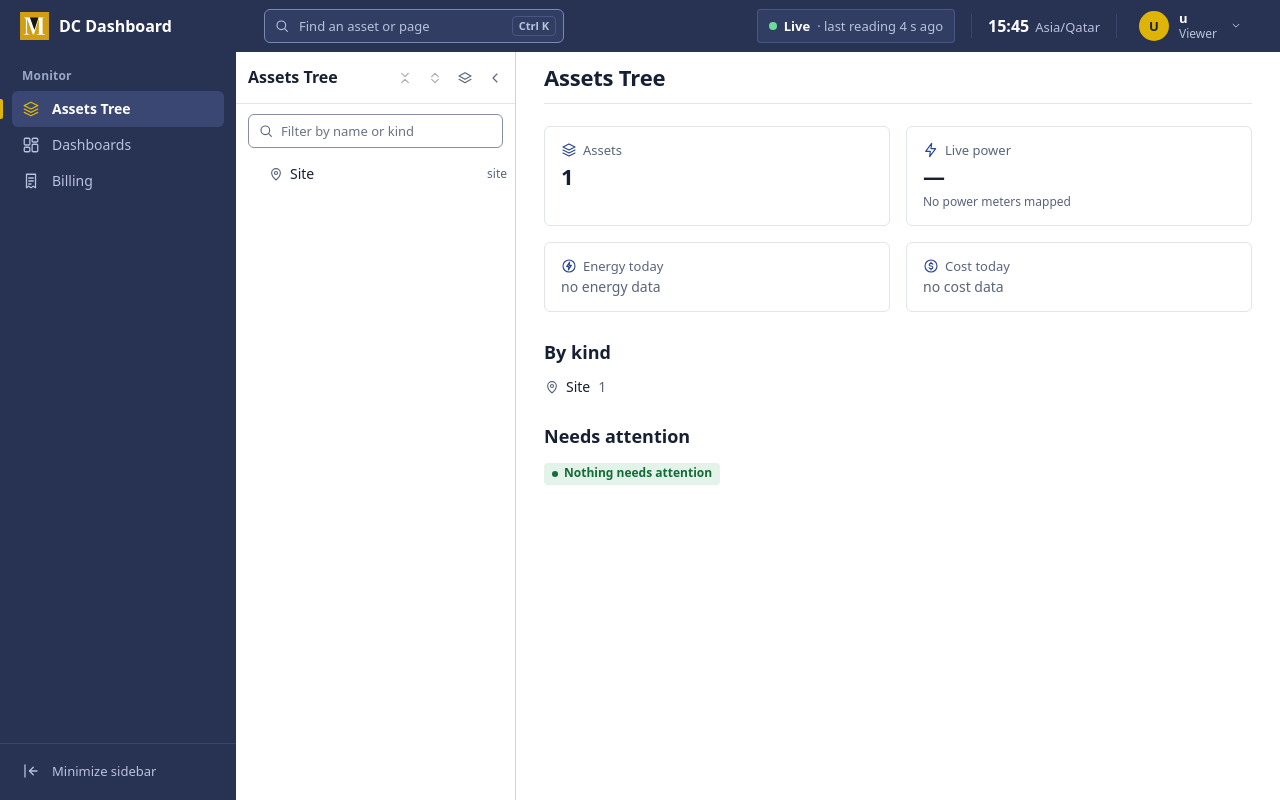
Test: the Assets workspace › the link in the tree header opens the Asset kinds page, and a click on a node goes back to an asset
Click the link named "Asset kinds". click: click(465, 78)
box: [457,70,473,86]
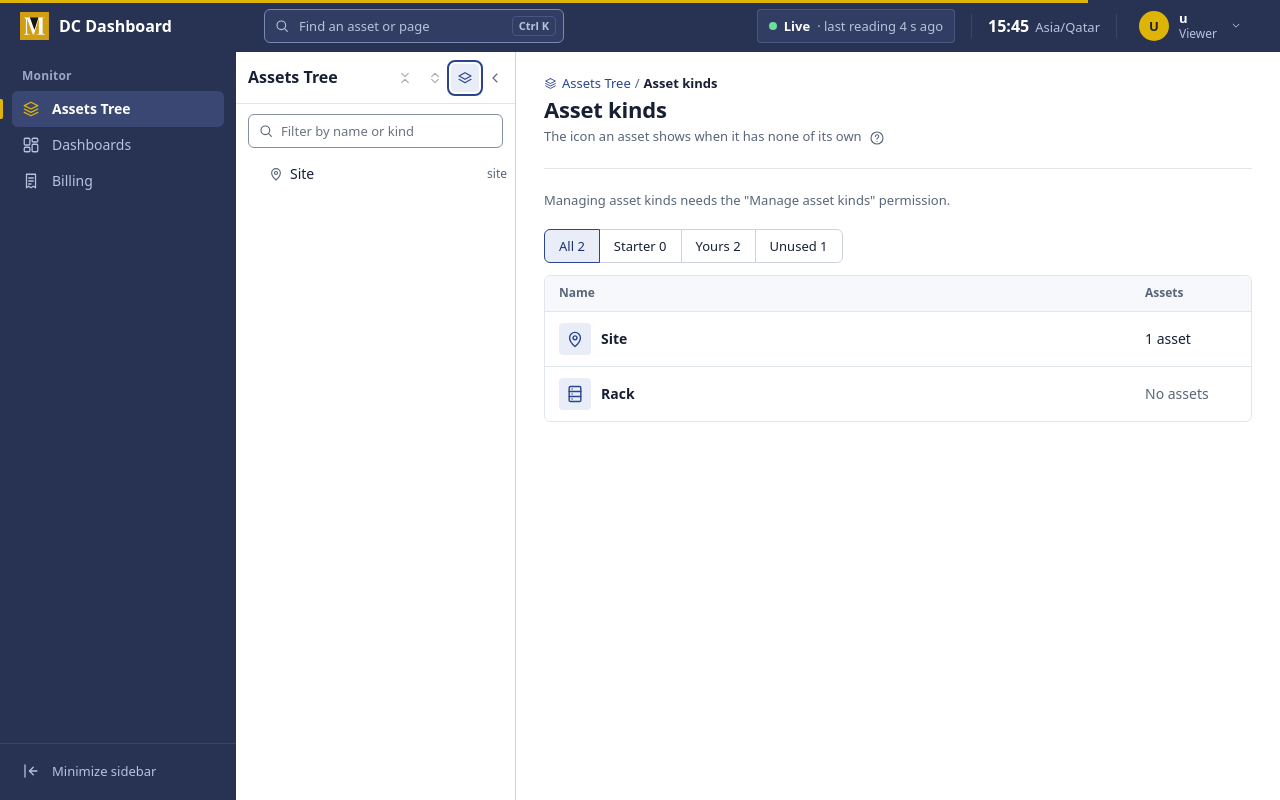
expect the heading "Asset kinds" is shown: met, box [544,94,667,124]
Click the link "Site". click: click(302, 174)
box: [290,164,314,183]
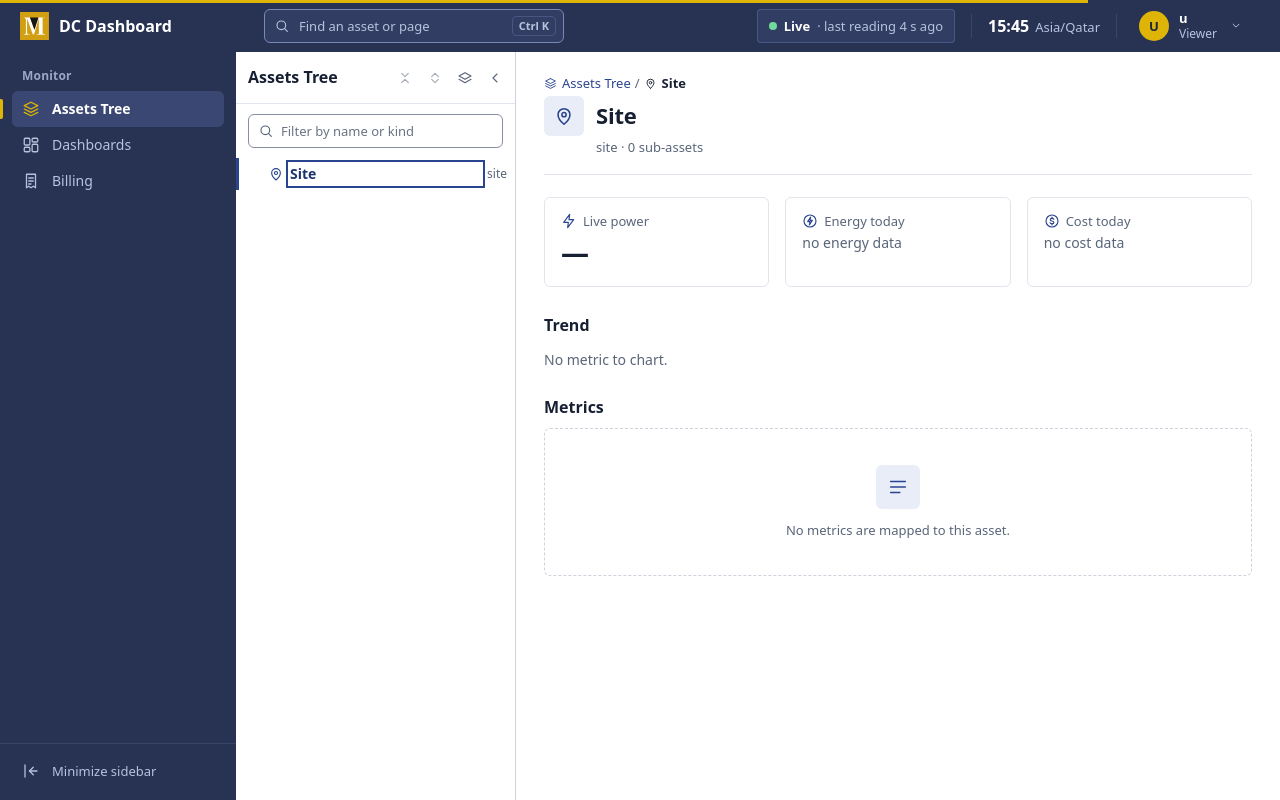
expect the heading "Site" is shown: met, box [596,102,637,130]
